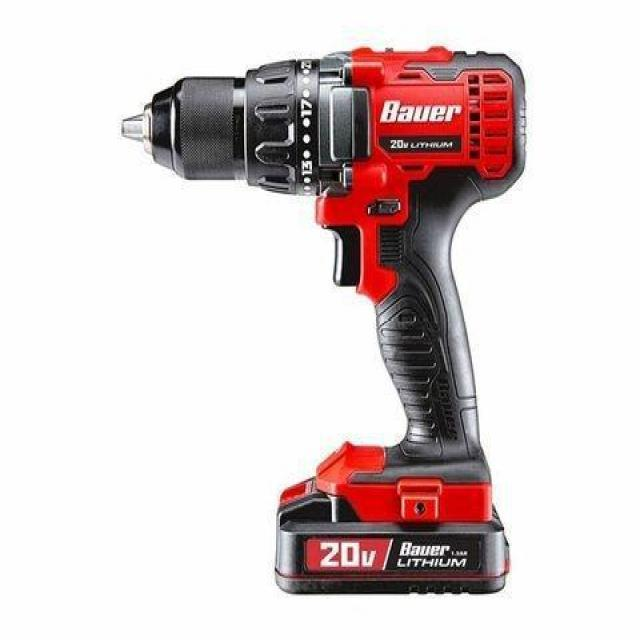drill: (120, 45, 527, 598)
